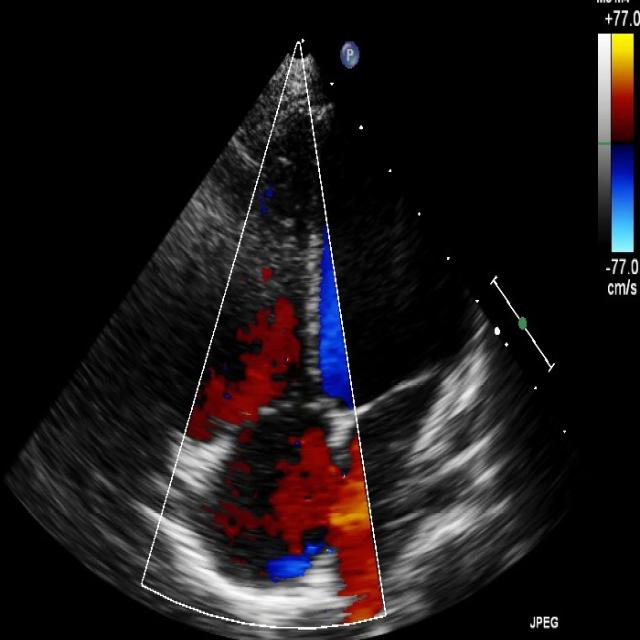ASDType2: (270, 415, 388, 621)
